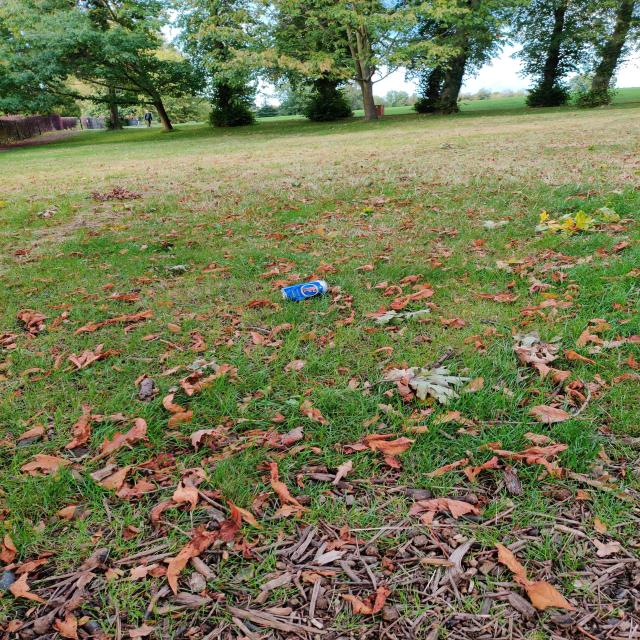litter: (278, 273, 342, 305)
